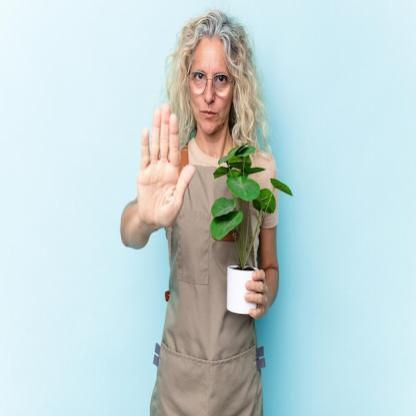stop: (138, 98, 197, 234)
